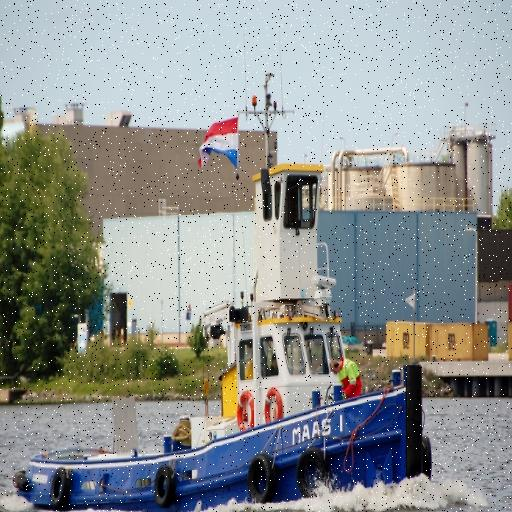tugboat: (9, 161, 440, 512)
